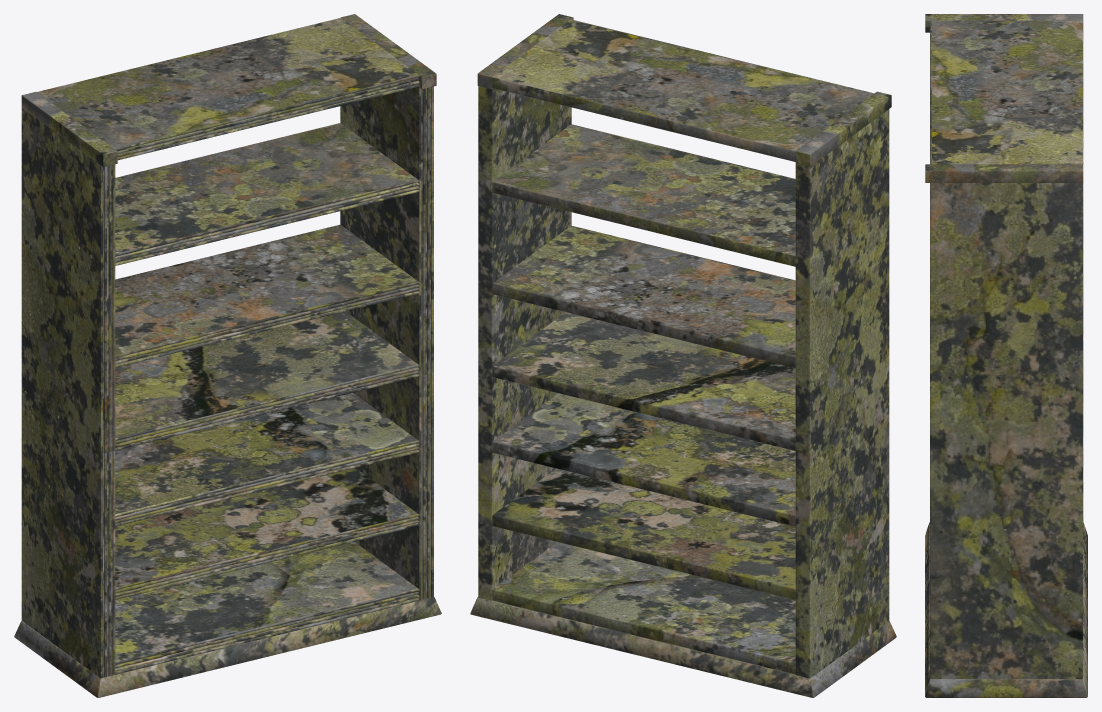
Rendered from wooden_bookshelf_worn.gltf.
The picture shows the model from 3 angles, left to right: view 1: azimuth 30°, elevation 25°; view 2: azimuth 150°, elevation 25°; view 3: azimuth 270°, elevation 25°; orthographic projection. The views are drawn at different scales.
Visible parts, largest first — view 1: wooden_bookshelf_worn; view 2: wooden_bookshelf_worn; view 3: wooden_bookshelf_worn.
Boxes of the visible parts, left/top/right/bottom form: wooden_bookshelf_worn: left=14, top=14, right=441, bottom=697; wooden_bookshelf_worn: left=470, top=14, right=896, bottom=697; wooden_bookshelf_worn: left=925, top=14, right=1087, bottom=697.
Bounding box in the file's own units: 1.37 × 2.06 × 0.5813.
